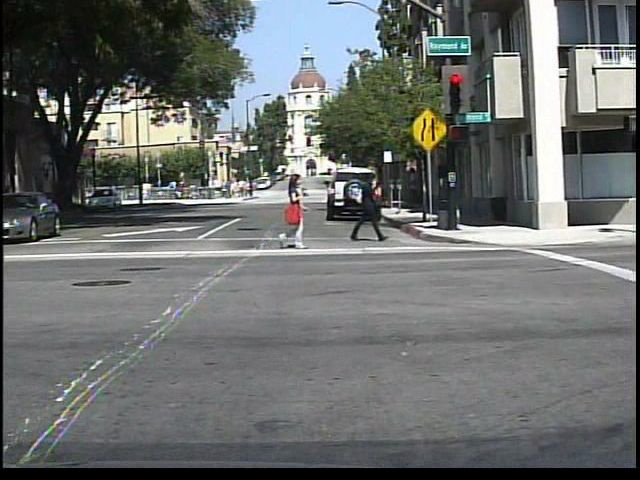person: (271, 167, 312, 250), (345, 167, 387, 246), (302, 183, 309, 201)
